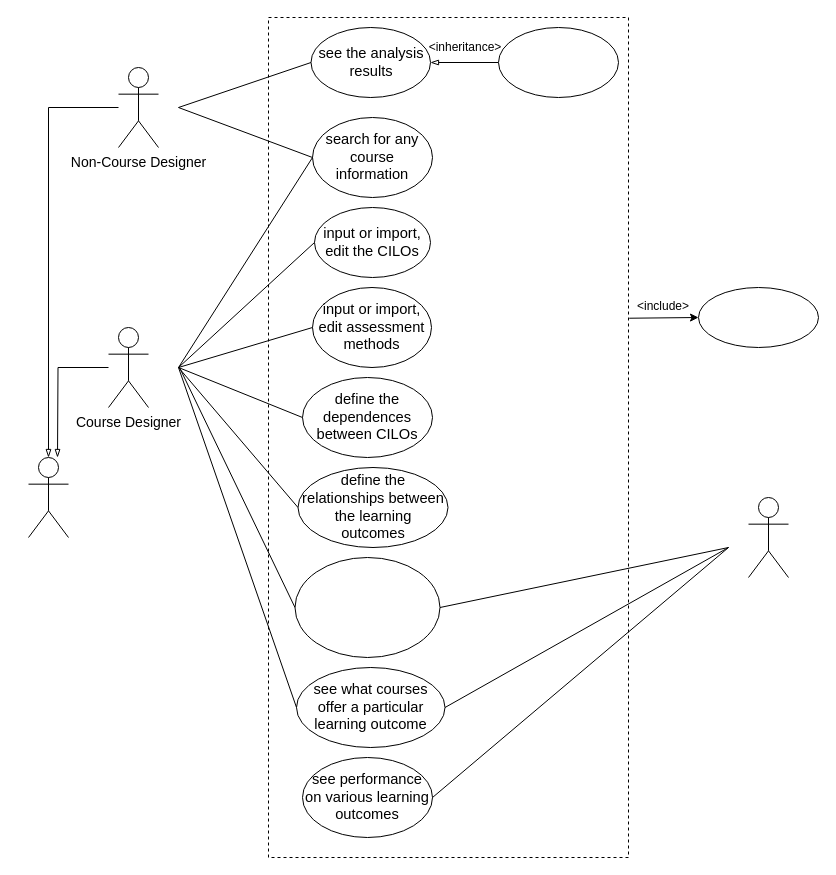
Some shapes in this 836 by 875 pixel diagram are drawn without their labels. The shapes that lost their labels are listed below. From the top down, each one's centre as x and y in pixels, then its label:
(558,62): check the CILO achievements
(758,317): login to the system
(48,497): Lecturers
(768,537): Students
(367,607): visualize the dependencies between learning outcomes across a degree
